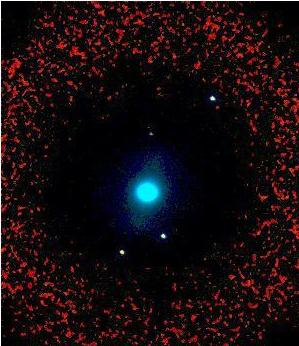star: (135, 117, 165, 147)
